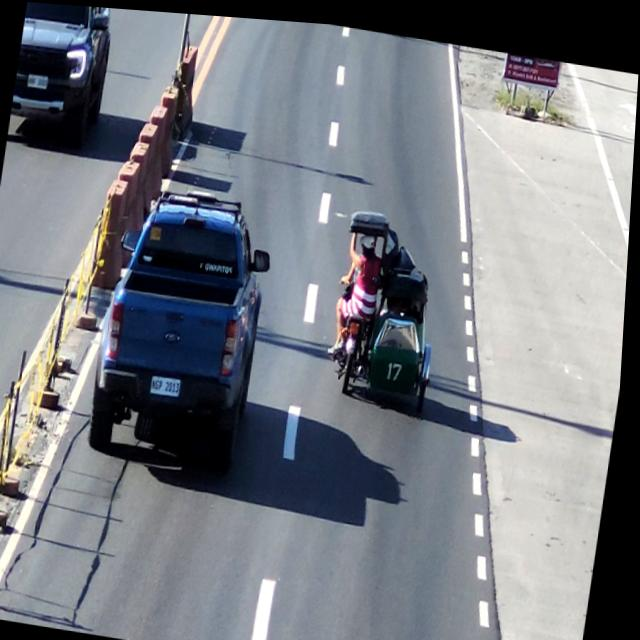Car: (87, 174, 286, 472)
License-Plate: (150, 363, 190, 402)
Tricycle: (323, 200, 460, 404)
